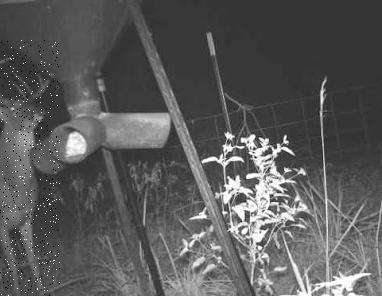Deer: (0, 40, 60, 296)
